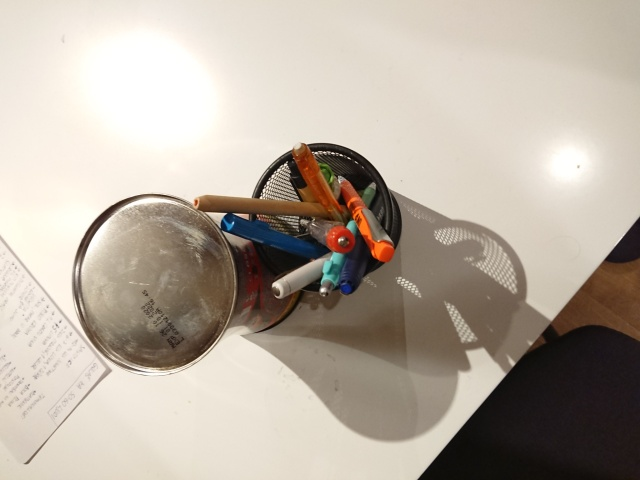Nescafe Classic 225g: (69, 191, 312, 380)
